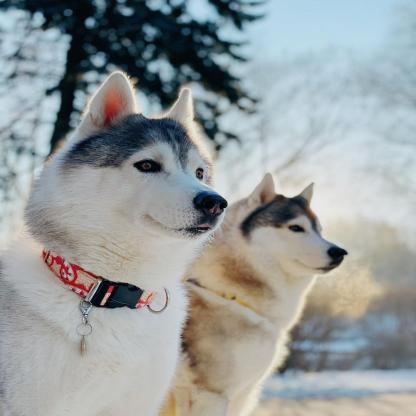husky: (1, 69, 230, 416), (162, 173, 351, 416)
